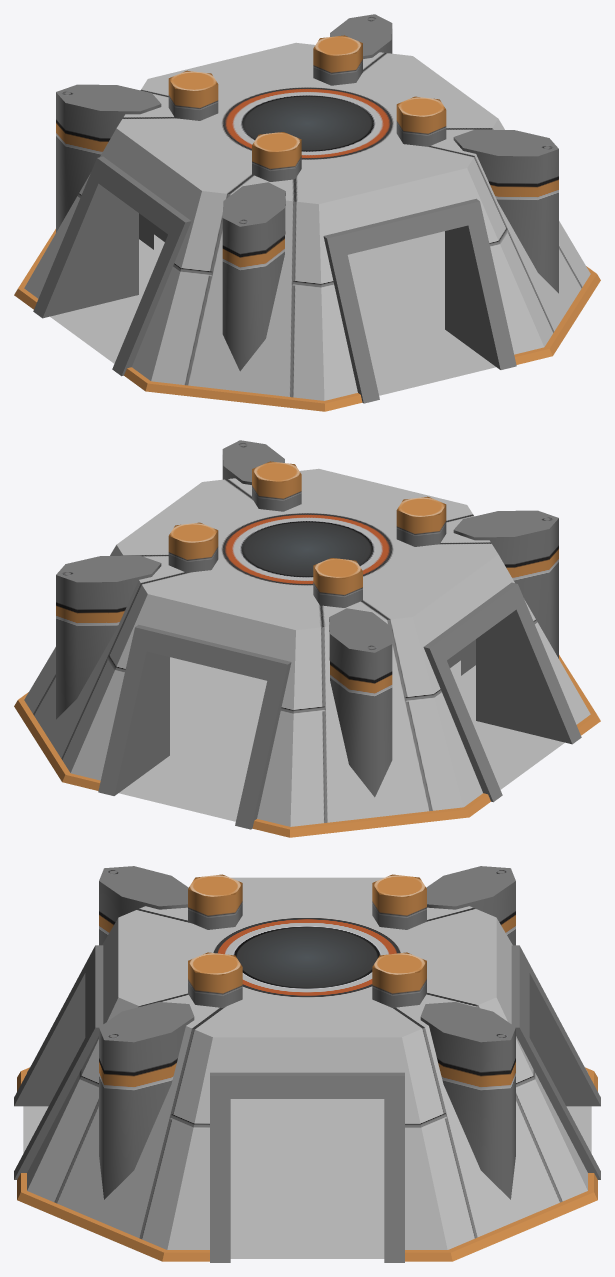
The model's file is kernel_ab00_mod.fbx.
3 views of the same model, one above another, from view 1: azimuth 30°, elevation 25°; view 2: azimuth 150°, elevation 25°; view 3: azimuth 270°, elevation 25° (orthographic). The views are drawn at different scales.
Parts seen in each view (by area): view 1: kernel_ab00_mod; view 2: kernel_ab00_mod; view 3: kernel_ab00_mod.
Part boxes in pixels (bbox=[...]): kernel_ab00_mod: bbox=[14, 14, 600, 411]; kernel_ab00_mod: bbox=[14, 440, 600, 837]; kernel_ab00_mod: bbox=[14, 866, 600, 1262].
Size of the model in its own units: 41.4 by 16.64 by 41.4.
